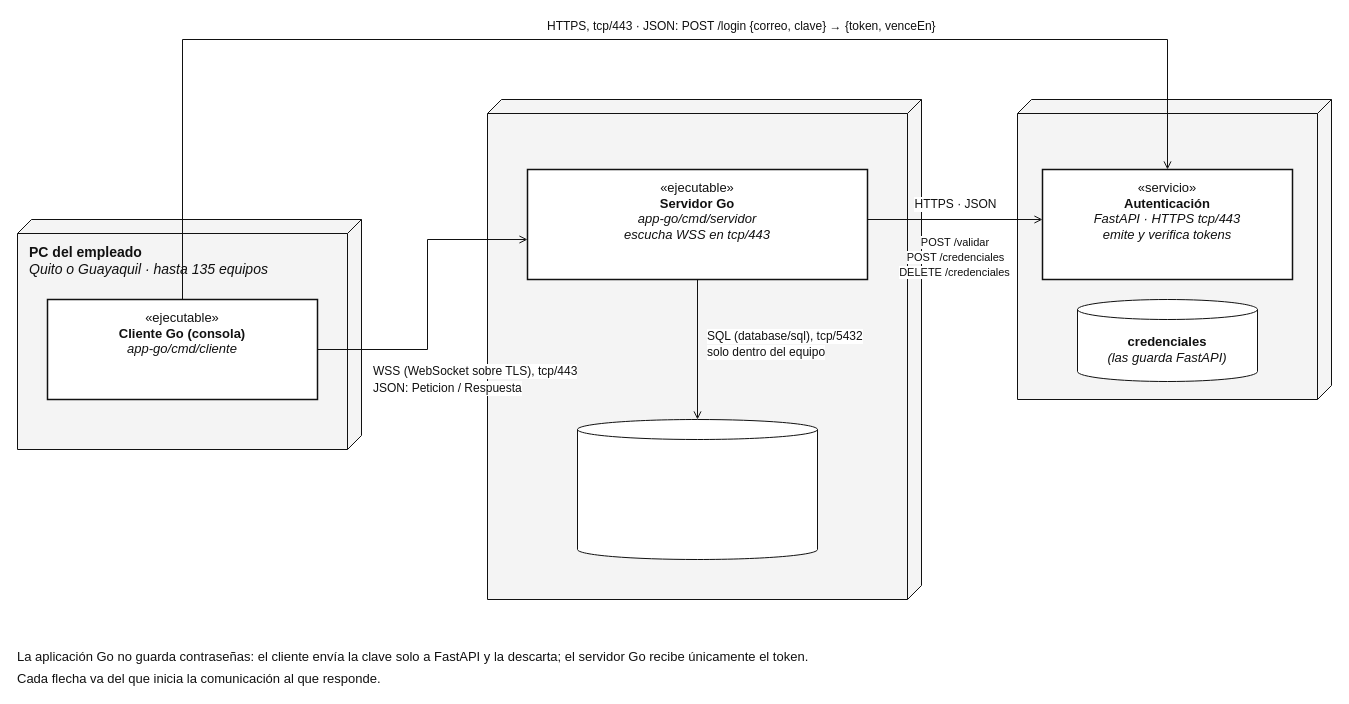
Some shapes in this 1349 by 704 pixel diagram are drawn without their labels. Here are the shapes that lost their labels. From the top down, the box of each, then its label:
(1016, 98, 1332, 400): Servidor de autenticación Matriz, Quito
(486, 98, 922, 600): Servidor de aplicaciones Matriz, Quito
(576, 418, 818, 560): «base de datos» PostgreSQL usuarios, salas, mensajes y métricas
